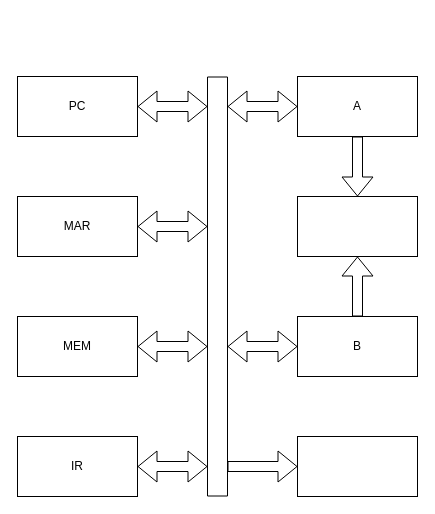
Some shapes in this 435 by 514 pixel diagram are drawn without their labels. Each missing label, with the box of its shape:
ALU: (296, 196, 418, 256)
OUT: (296, 436, 418, 496)
